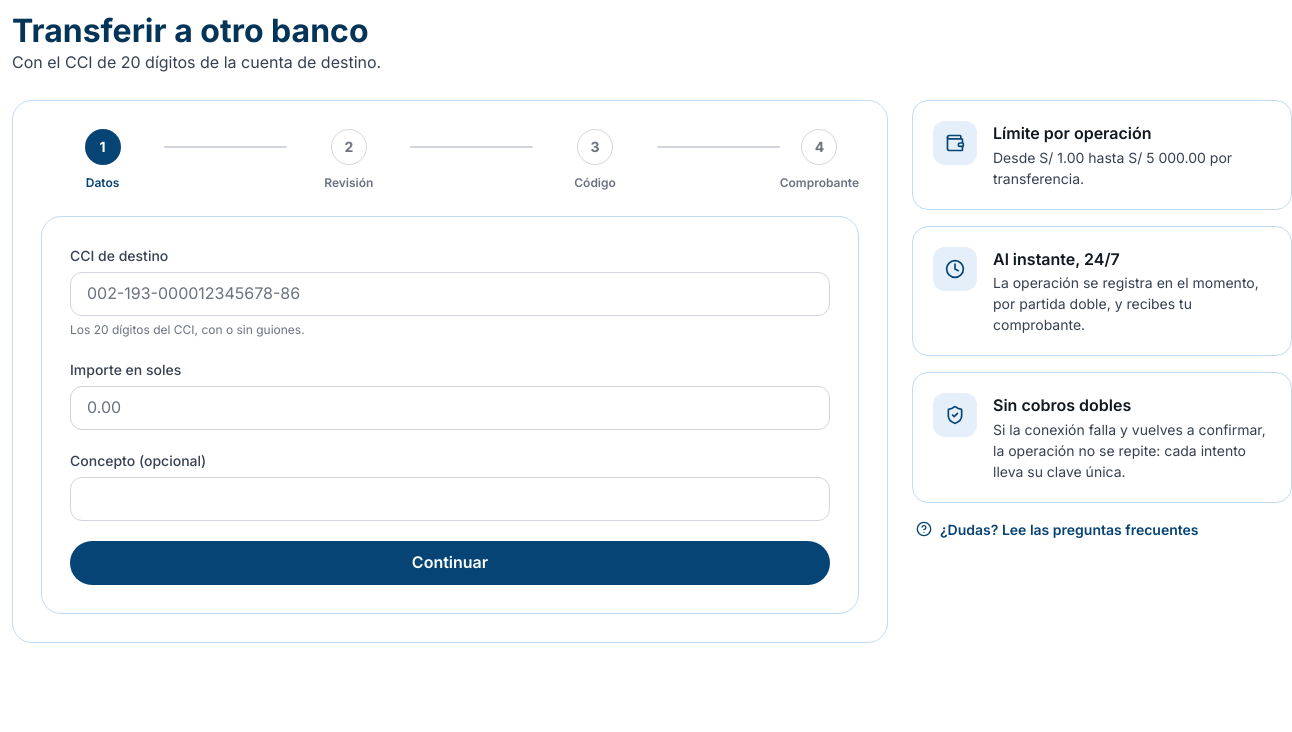
Transferencia interbancaria (HU-11) › valida el CCI mientras se escribe y dice si su dígito de control no cuadra
Type "0021930000123456788" into the field labelled "CCI de destino".
click(450, 294); type("0021930000123456788")  # box [70,272,830,316]
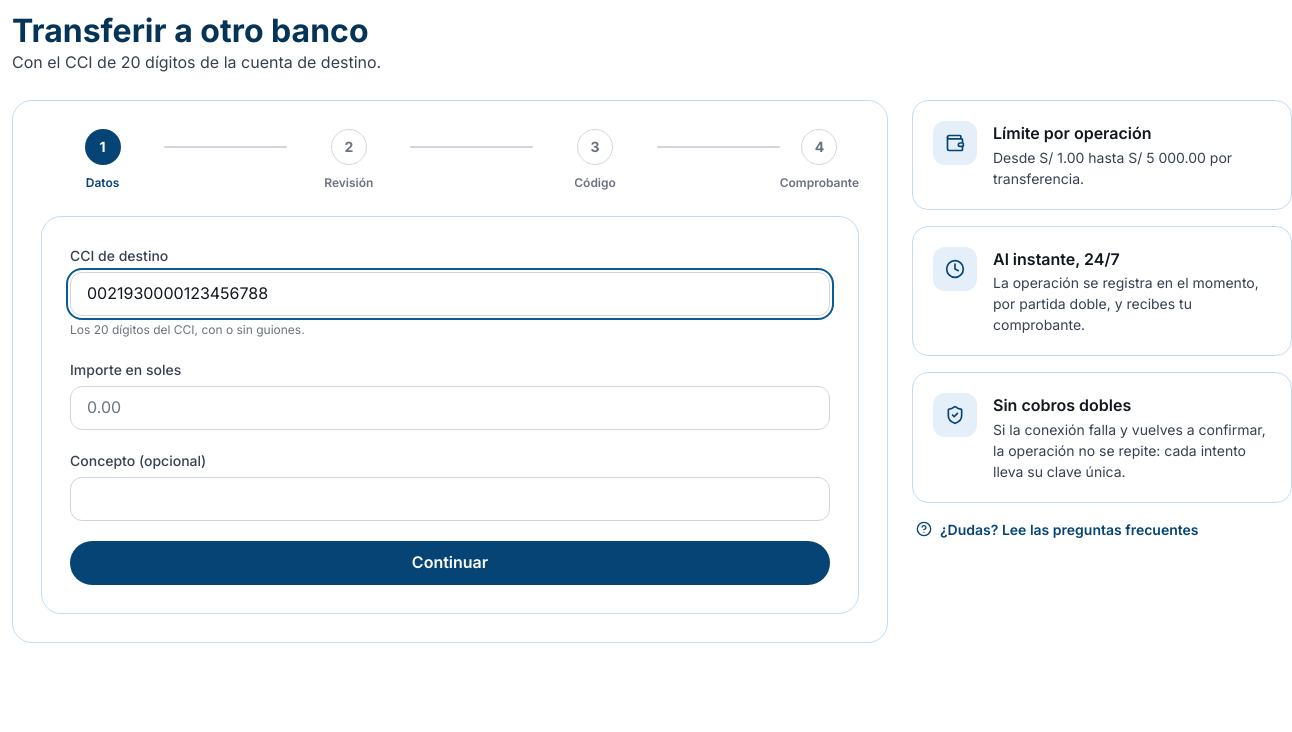
Expected: the text "Los 20 dígitos del CCI, con o sin guiones." is shown, [70,322,305,337]
Type "7" into the field labelled "CCI de destino".
click(450, 294); type("7")  # box [70,272,830,316]
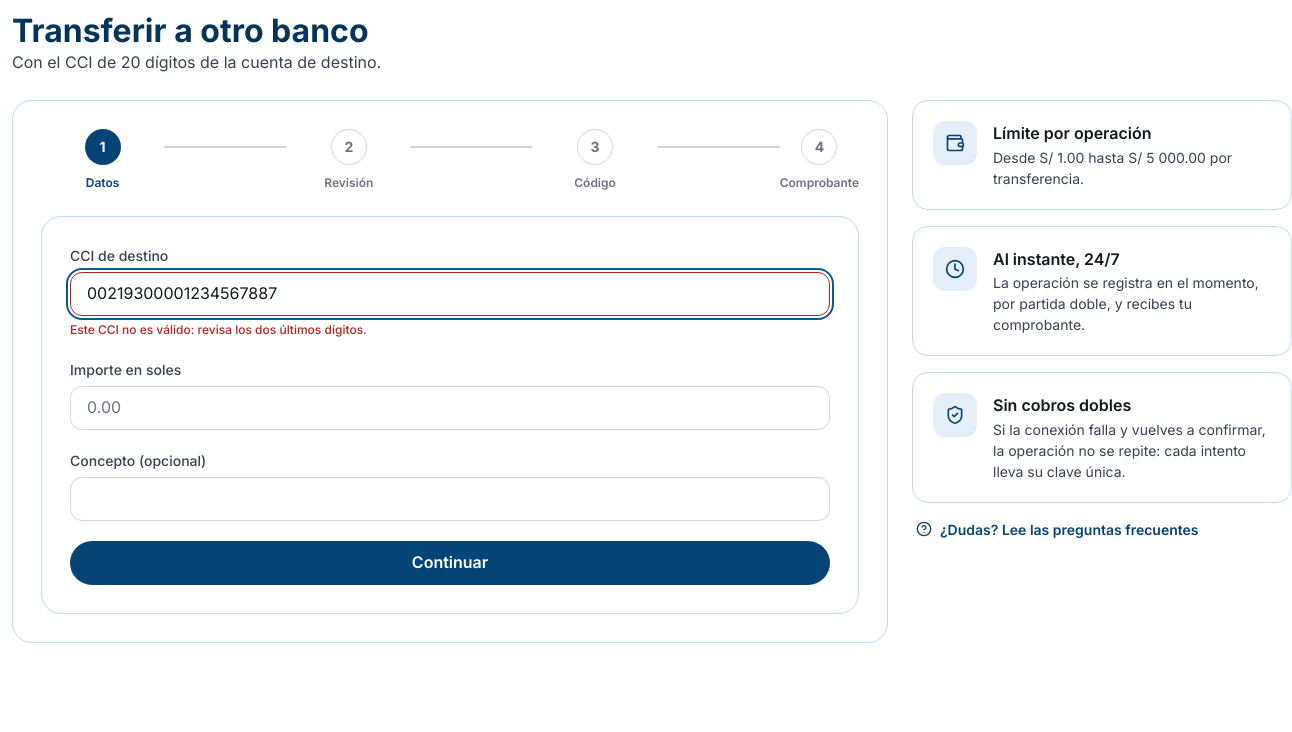
Replace the text in the field labelled "CCI de destino" with "00219300001234567886" at (450, 294), box [70,272,830,316]
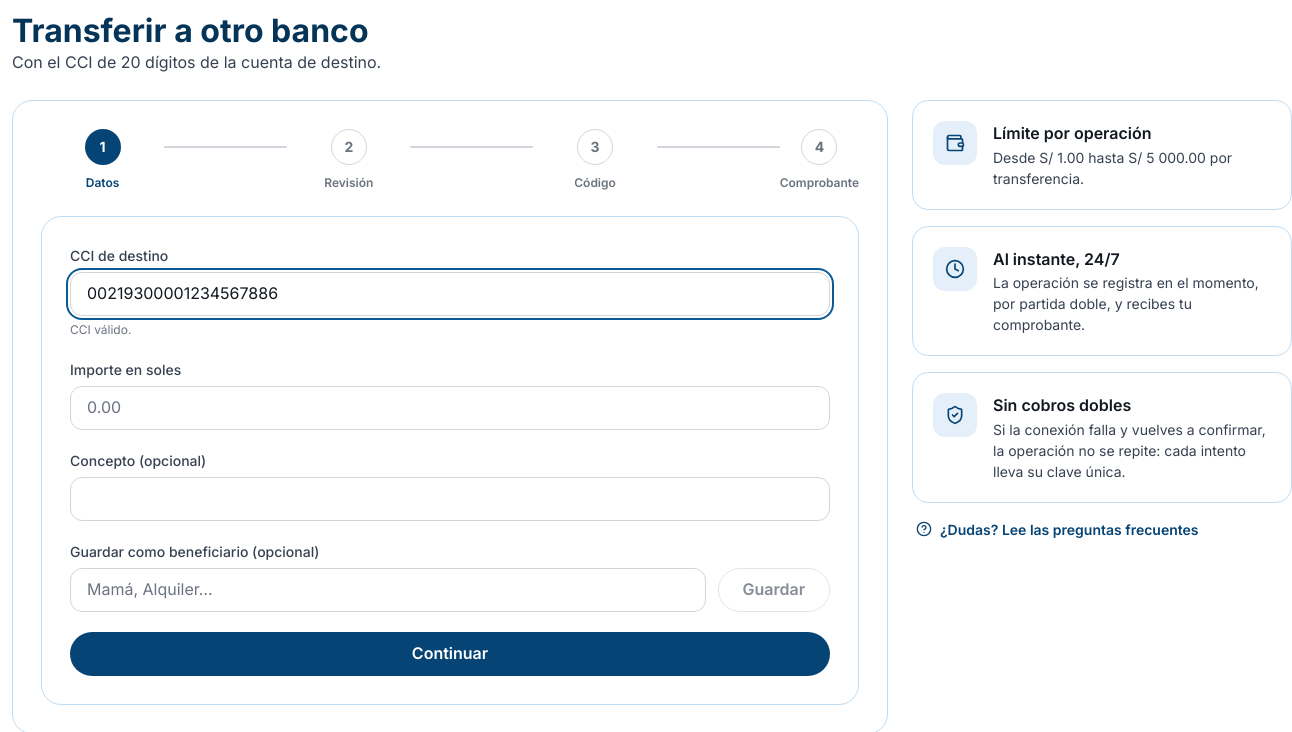
Expected: the text "CCI válido." is shown, [70,322,131,337]
